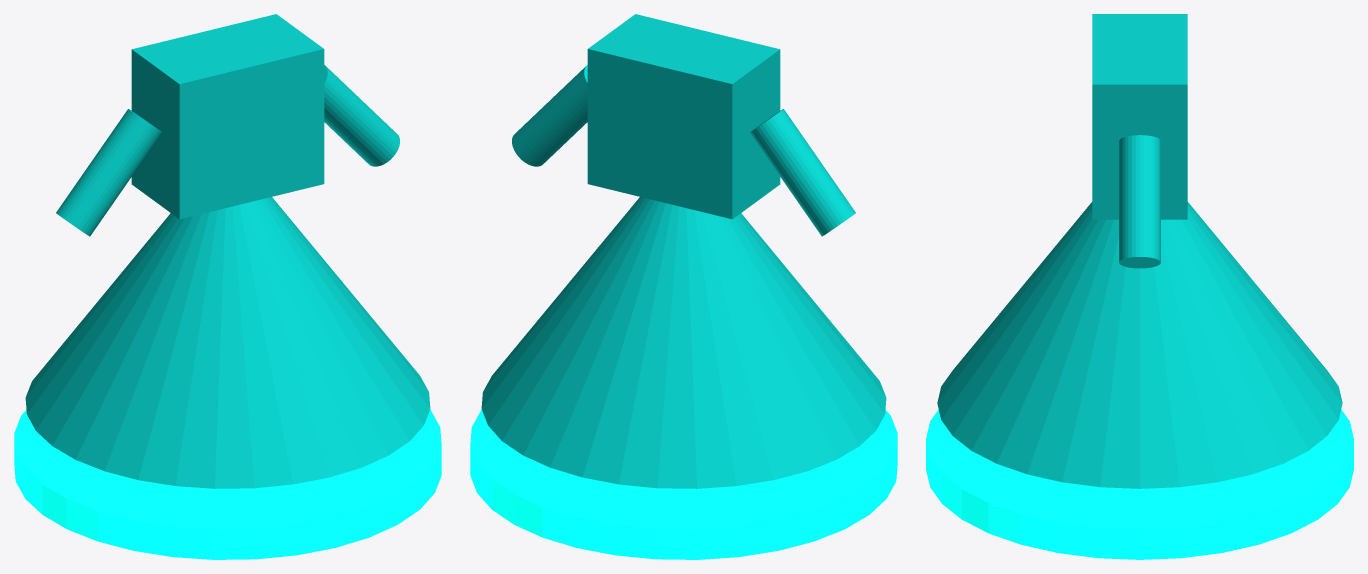
File: fashion_dress.glb
3 renders of one model, left to right at view 1: azimuth 30°, elevation 25°; view 2: azimuth 150°, elevation 25°; view 3: azimuth 270°, elevation 25°, orthographic.
Parts seen in each view (by area): view 1: 06_14_Popular_Fashion_Dress_part_01, 06_14_Popular_Fashion_Dress_part_02, 06_14_Popular_Fashion_Dress_ROOT_base, 06_14_Popular_Fashion_Dress_part_03, 06_14_Popular_Fashion_Dress_part_04; view 2: 06_14_Popular_Fashion_Dress_part_01, 06_14_Popular_Fashion_Dress_part_02, 06_14_Popular_Fashion_Dress_ROOT_base, 06_14_Popular_Fashion_Dress_part_03, 06_14_Popular_Fashion_Dress_part_04; view 3: 06_14_Popular_Fashion_Dress_part_01, 06_14_Popular_Fashion_Dress_ROOT_base, 06_14_Popular_Fashion_Dress_part_02, 06_14_Popular_Fashion_Dress_part_04.
Part boxes in pixels (left/top/right/bottom): 06_14_Popular_Fashion_Dress_part_01: left=25, top=197, right=430, bottom=488; 06_14_Popular_Fashion_Dress_part_02: left=131, top=14, right=324, bottom=219; 06_14_Popular_Fashion_Dress_ROOT_base: left=14, top=409, right=441, bottom=559; 06_14_Popular_Fashion_Dress_part_03: left=56, top=109, right=162, bottom=236; 06_14_Popular_Fashion_Dress_part_04: left=324, top=65, right=399, bottom=166; 06_14_Popular_Fashion_Dress_part_01: left=481, top=197, right=886, bottom=488; 06_14_Popular_Fashion_Dress_part_02: left=587, top=14, right=780, bottom=219; 06_14_Popular_Fashion_Dress_ROOT_base: left=470, top=409, right=897, bottom=559; 06_14_Popular_Fashion_Dress_part_03: left=749, top=109, right=855, bottom=236; 06_14_Popular_Fashion_Dress_part_04: left=512, top=65, right=587, bottom=166; 06_14_Popular_Fashion_Dress_part_01: left=937, top=202, right=1342, bottom=488; 06_14_Popular_Fashion_Dress_ROOT_base: left=926, top=410, right=1353, bottom=559; 06_14_Popular_Fashion_Dress_part_02: left=1092, top=14, right=1187, bottom=219; 06_14_Popular_Fashion_Dress_part_04: left=1119, top=135, right=1160, bottom=268.
Bounding box in the file's own units: 0.76 × 0.8235 × 0.76.
